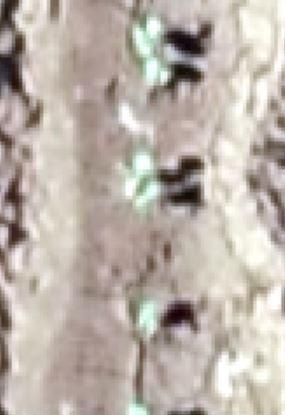cotton: (133, 21, 162, 59), (135, 175, 157, 203), (145, 57, 169, 82), (130, 151, 153, 176), (135, 304, 156, 328)
